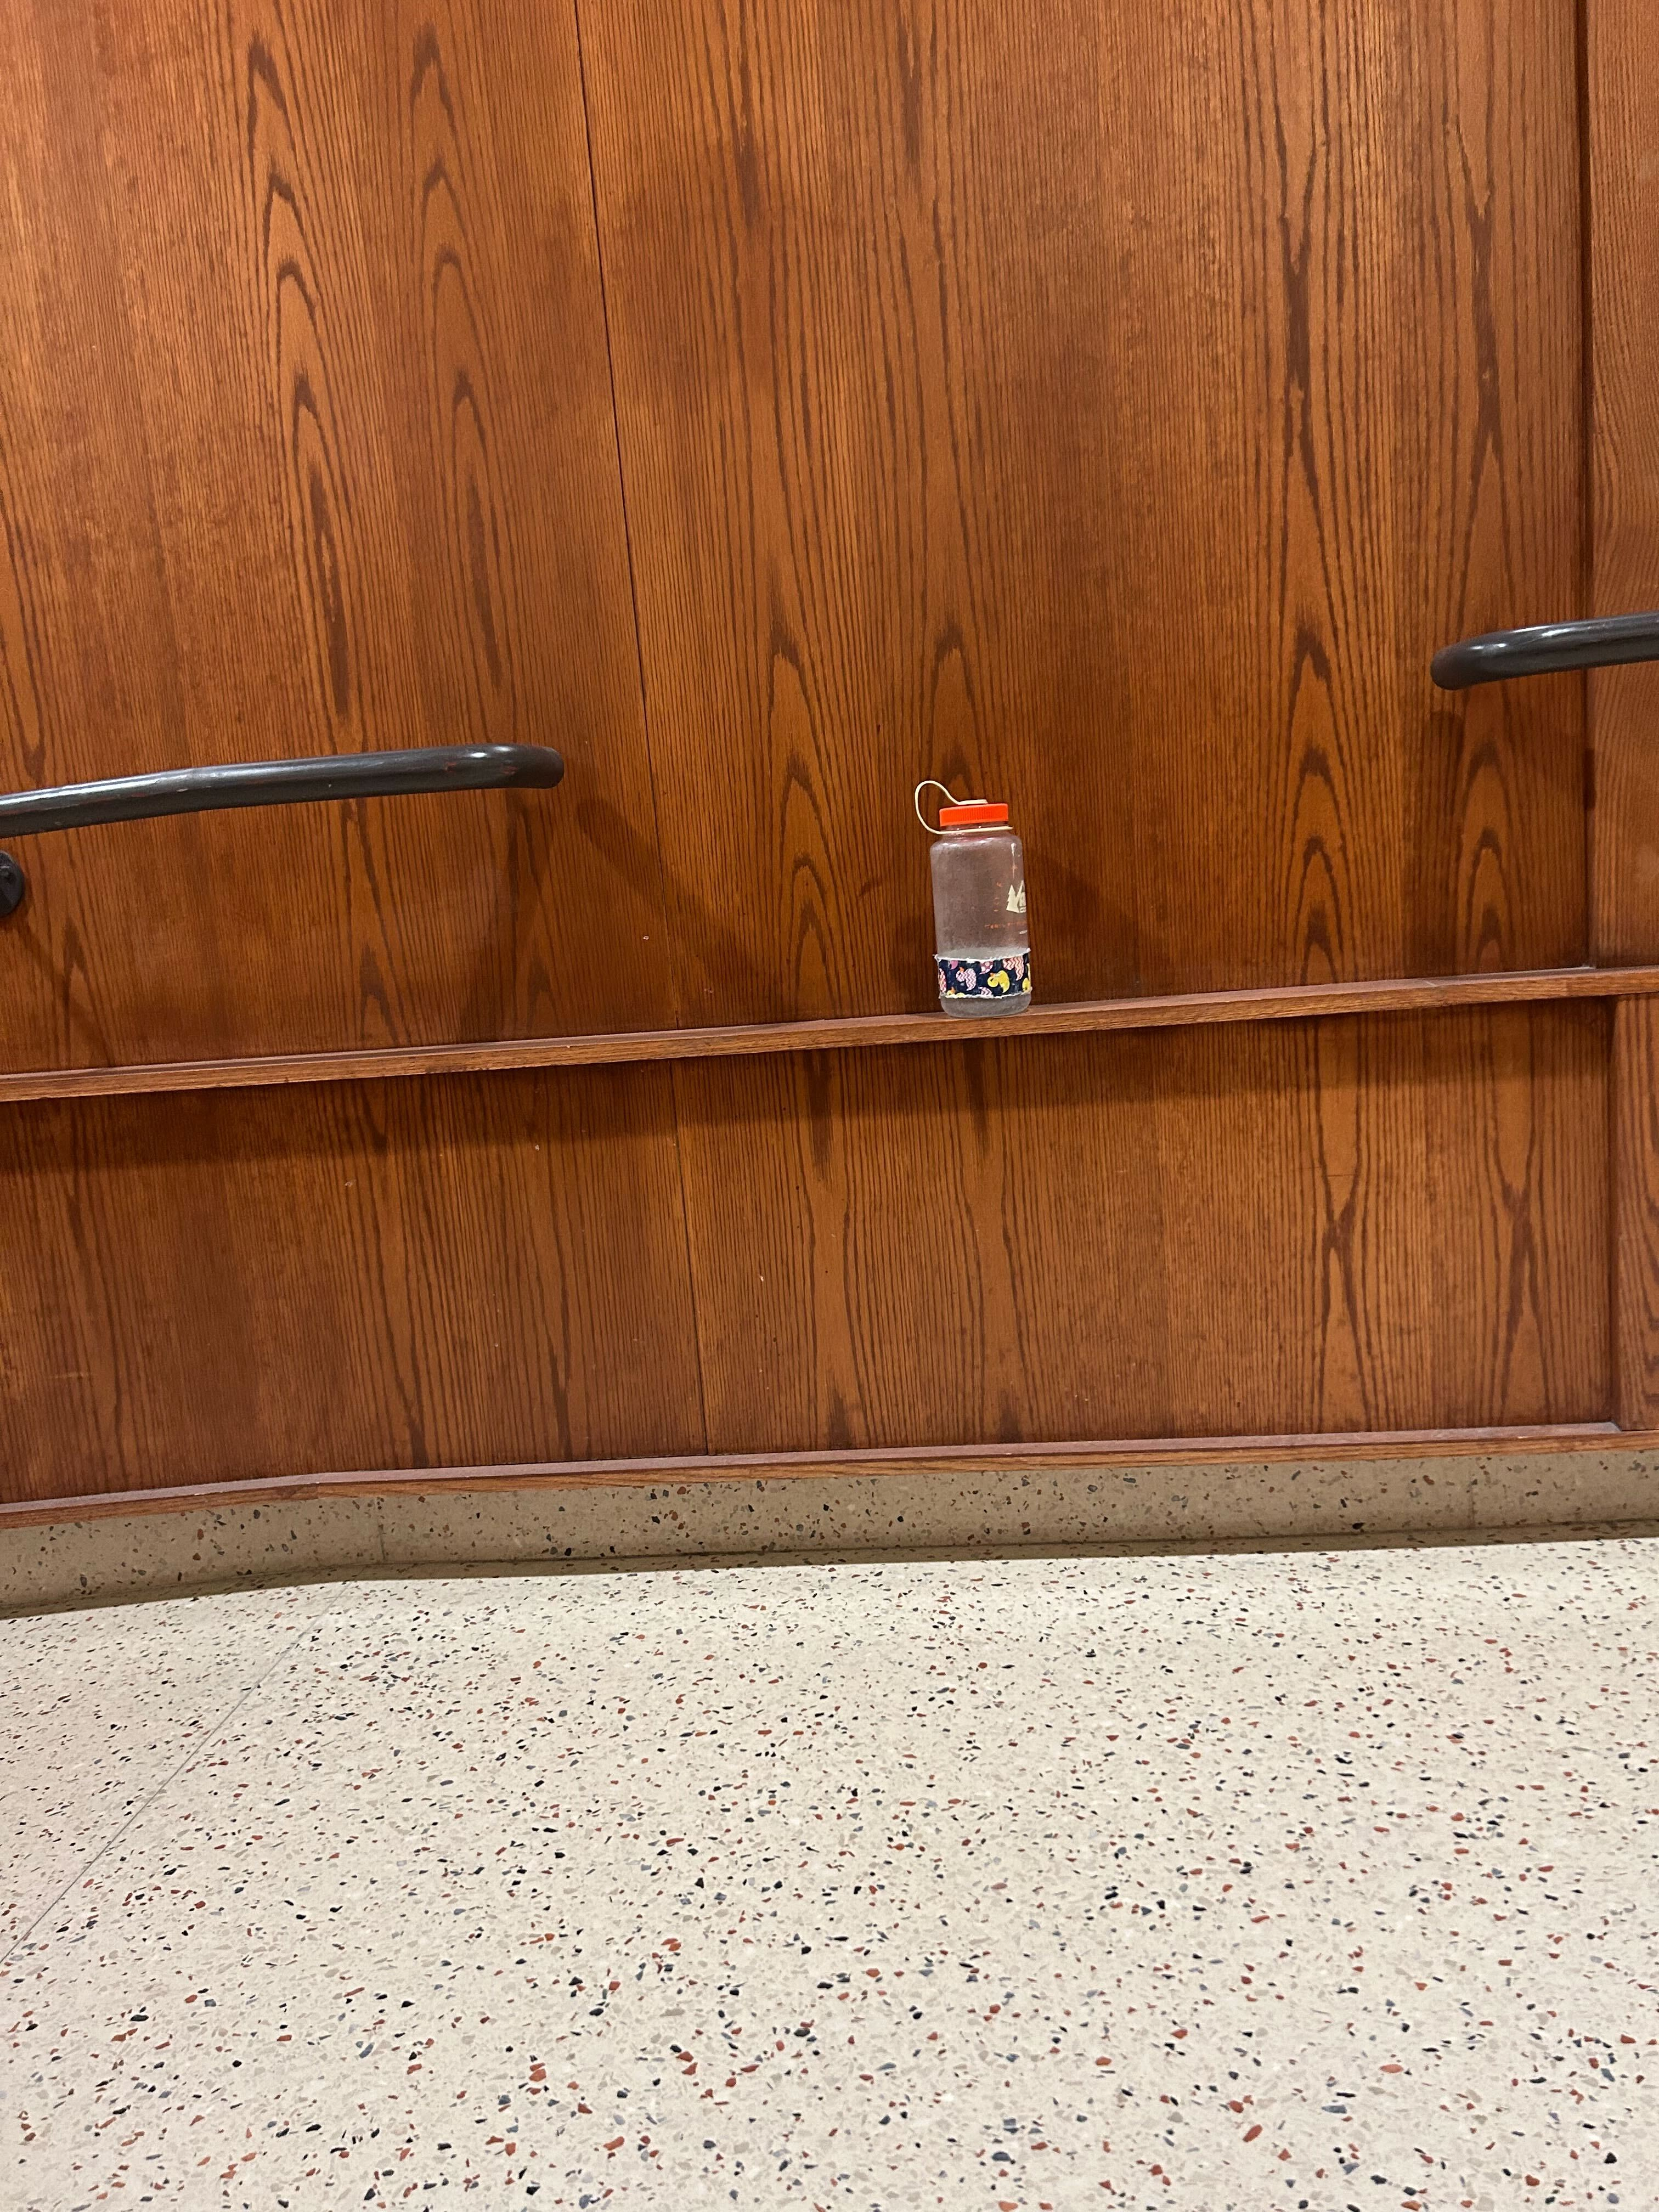bottle: (910, 768, 1033, 1026)
